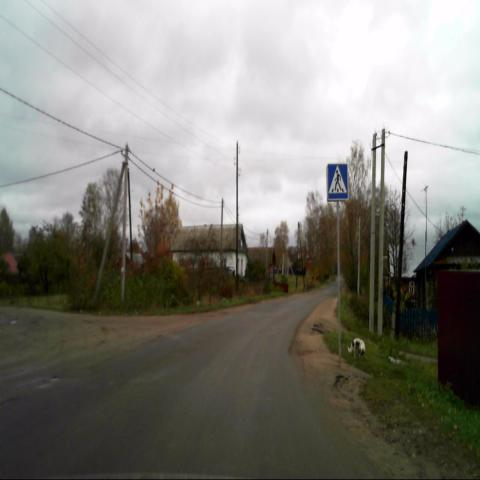5_19_1: (328, 163, 348, 200)
